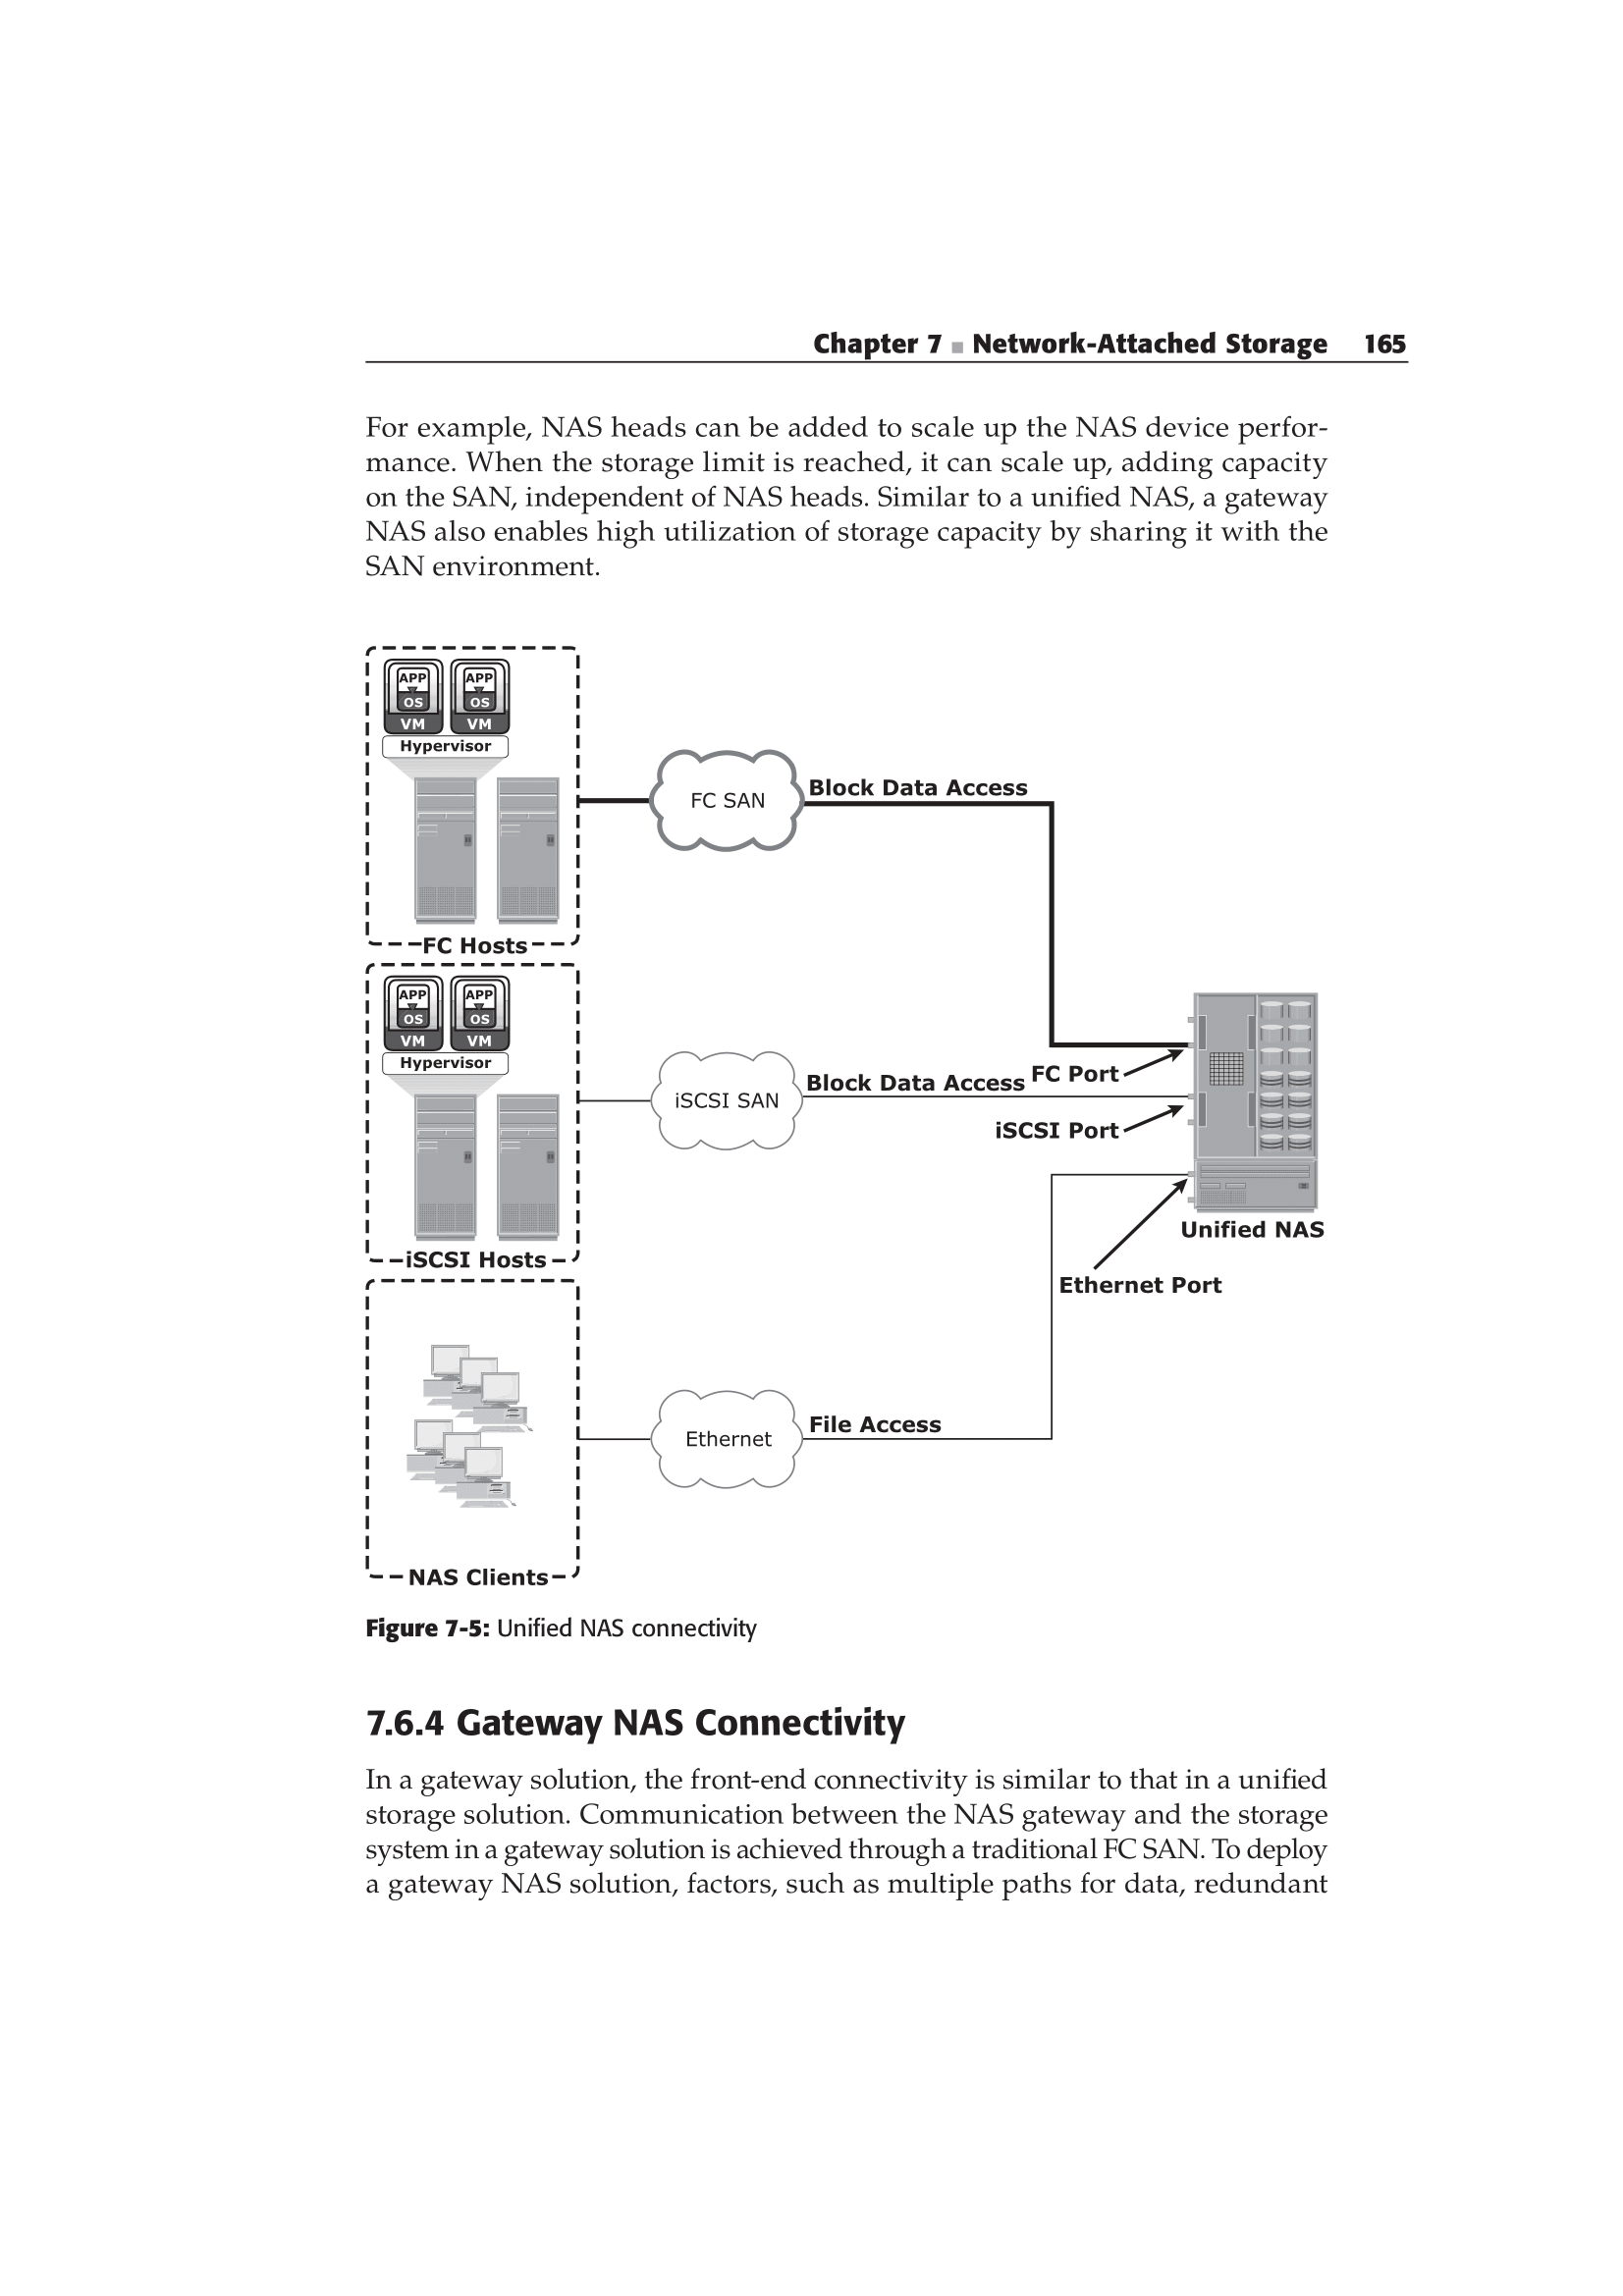Image: (163, 649, 1454, 1610)
Paragraph: (209, 398, 1395, 604), (285, 1759, 1391, 1931), (683, 297, 1500, 390), (318, 1697, 1068, 1764), (272, 1610, 1001, 1647)
